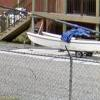Boat: (21, 22, 99, 65)
